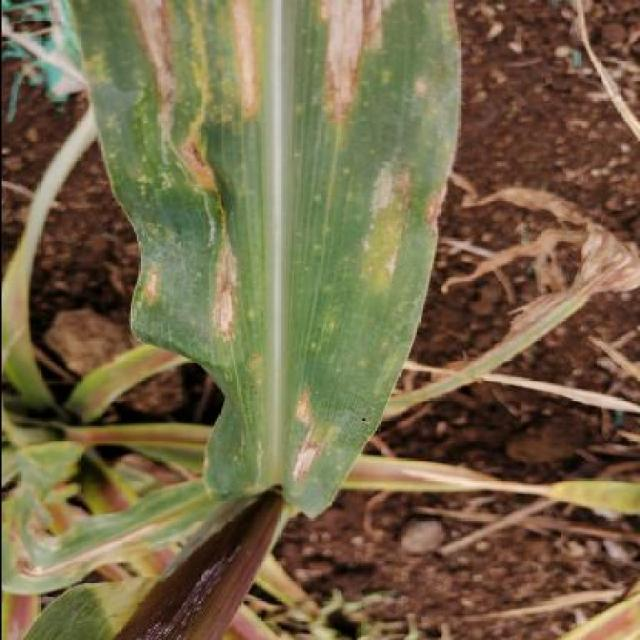Corn_Leaf_Blight: (67, 0, 464, 532)
